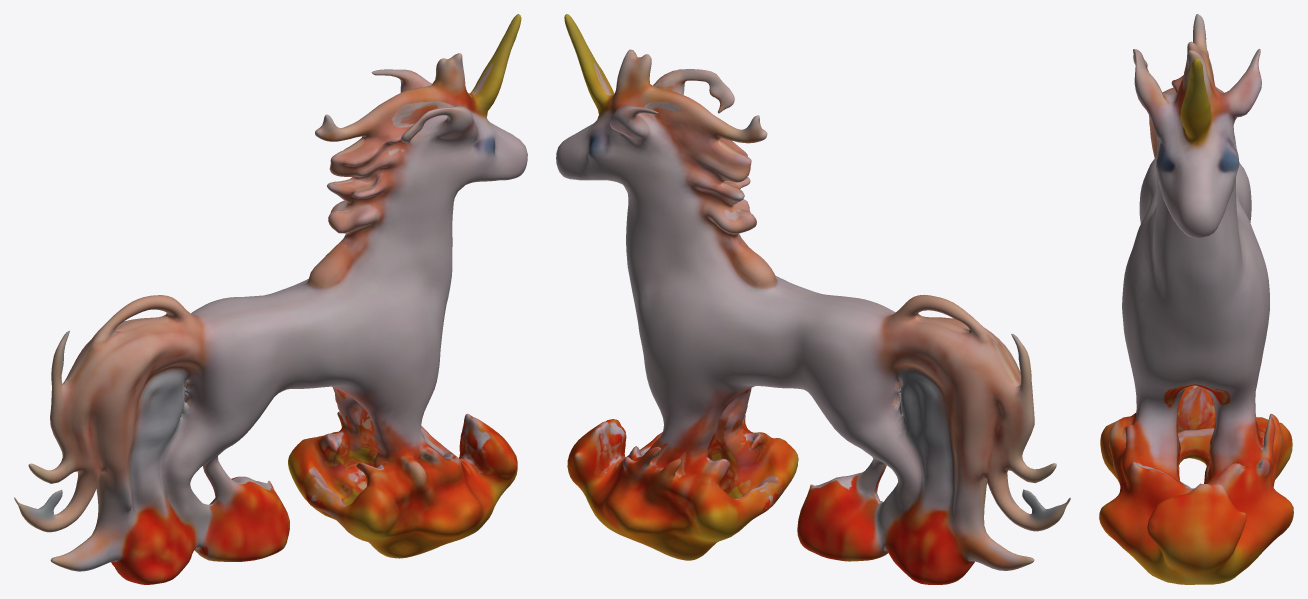
Rendered from 5df385c30ce7_a_unicorn_with_a_lo.fbx.
The picture shows the model from 3 angles, left to right: view 1: azimuth 30°, elevation 25°; view 2: azimuth 150°, elevation 25°; view 3: azimuth 270°, elevation 25°; orthographic projection. The views are drawn at different scales.
Parts seen in each view (by area): view 1: mesh; view 2: mesh; view 3: mesh.
Boxes of the visible parts, bbox=[...] form: mesh: bbox=[14, 14, 527, 584]; mesh: bbox=[556, 14, 1070, 584]; mesh: bbox=[1099, 14, 1293, 584].
Bounding box in the file's own units: 99.71 × 93.45 × 29.08.
